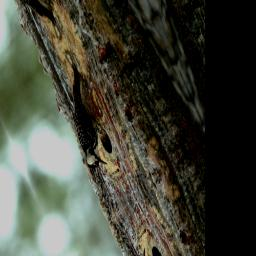Woodpecker: (45, 49, 123, 184)
